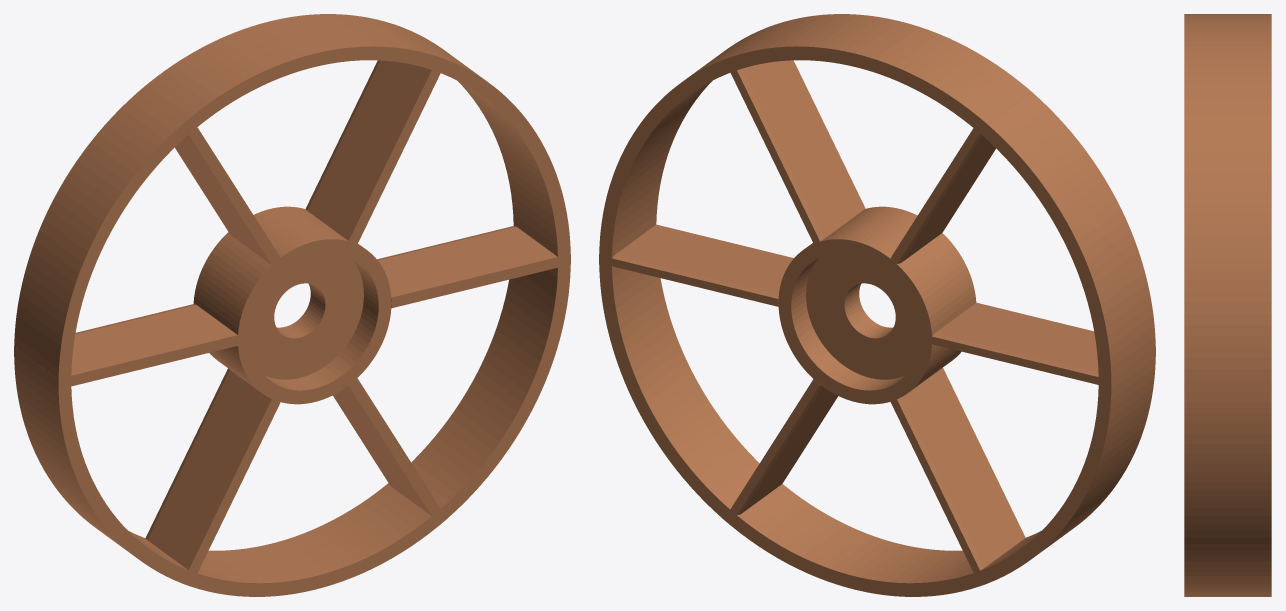
Rendered from wheel.fbx.
3 views of the same model, side by side, from view 1: azimuth 30°, elevation 25°; view 2: azimuth 150°, elevation 25°; view 3: azimuth 270°, elevation 25° (orthographic).
Visible parts, largest first — view 1: node_id30; view 2: node_id30; view 3: node_id30.
Boxes of the visible parts, bbox=[...] form: node_id30: bbox=[14, 14, 570, 596]; node_id30: bbox=[599, 14, 1155, 596]; node_id30: bbox=[1184, 14, 1271, 596].
Bounding box in the file's own units: 0.5039 × 0.5039 × 0.0756.
Materials: 1 (1 with a texture image).
